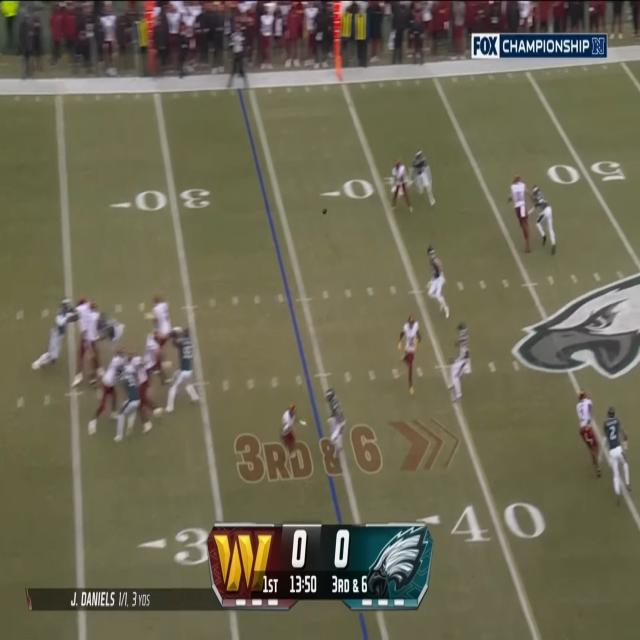Ball: (322, 207, 328, 216)
